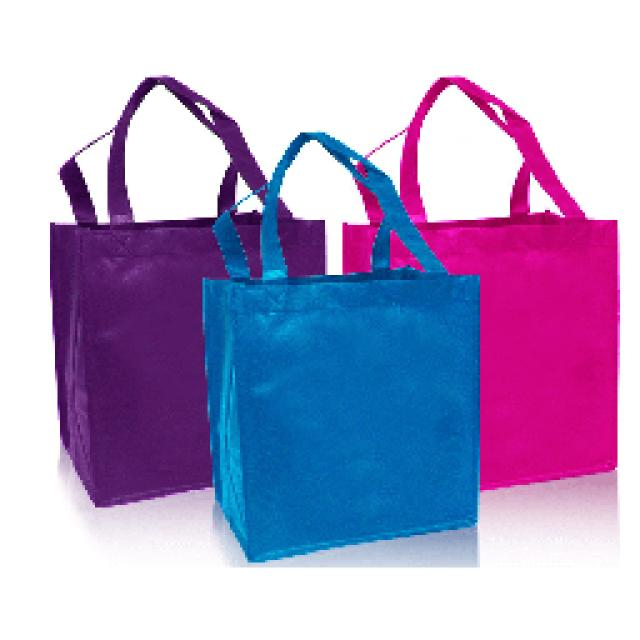plastic: (50, 208, 615, 558)
